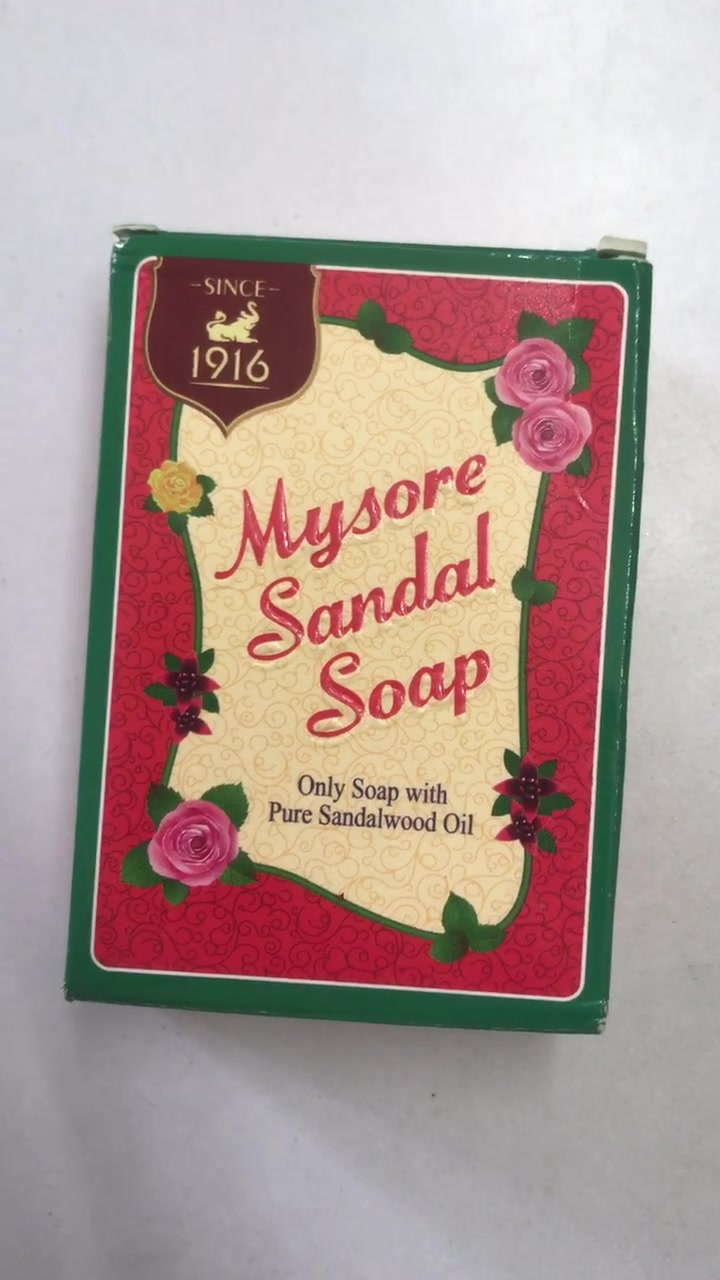mysore sandal soap: (64, 234, 653, 1034)
